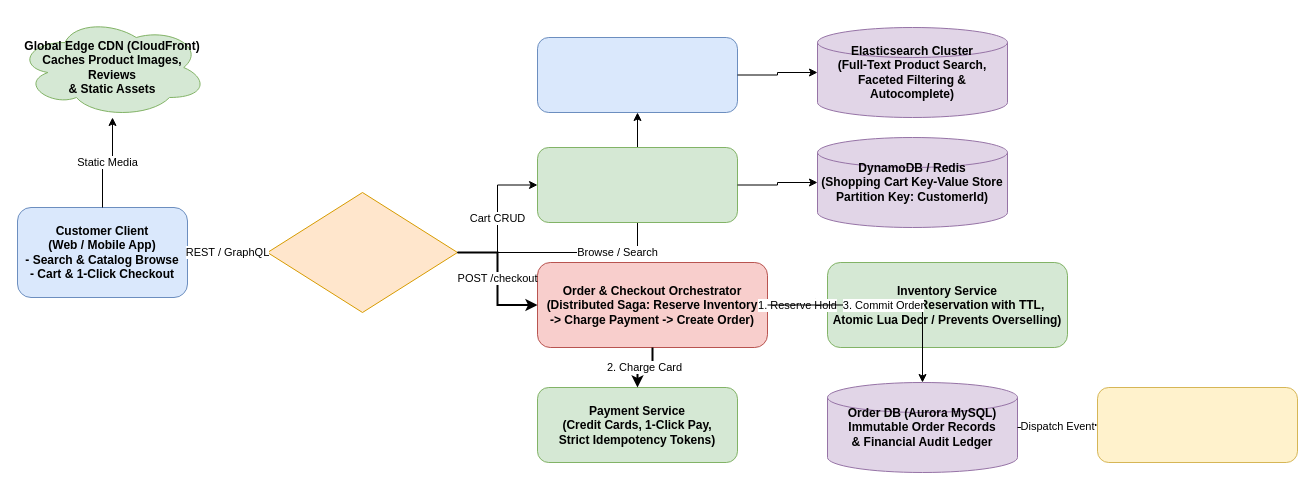
This 1315x490 diagram has some shape labels left out. The shapes that lost their labels are listed below. From the top down, each one's box as (x1, y1, x2, y2) in pixels, then its label:
(536, 36, 738, 112): Product Catalog Service (100M+ SKUs, Categories, Attributes, Pricing & Ratings)
(536, 146, 738, 222): Shopping Cart Service (Session & User Carts, Sub-ms Response Time)
(266, 192, 458, 312): API Gateway / Envoy (Auth, Rate Limiting, SSL, Idempotency Key Check)
(1096, 386, 1298, 462): Fulfillment & Warehouse (WMS) Package Dispatch & Tracking
